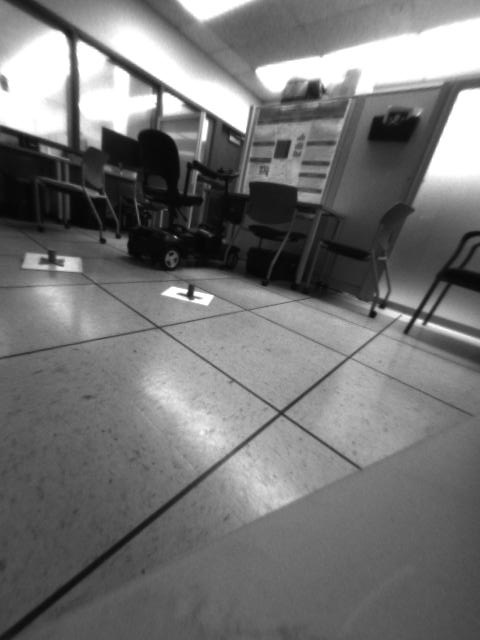X: (173, 280, 205, 304), (38, 246, 64, 267)
